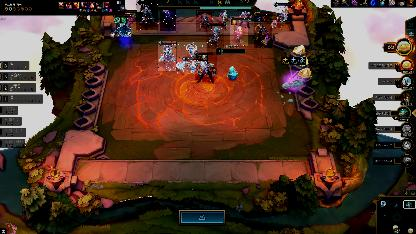1_aurelionsol: (113, 15, 133, 37)
1_lux: (230, 16, 248, 46)
1_nidalee: (196, 10, 212, 32)
1_yasuo: (160, 9, 176, 31)
2_nidalee: (206, 22, 224, 48)
2_skarner: (177, 42, 207, 74)
2_soraka: (274, 2, 292, 32)
2_sylas: (195, 52, 217, 84)
2_vladimir: (136, 0, 158, 30), (158, 41, 176, 71)
3_varus: (254, 12, 272, 48)
